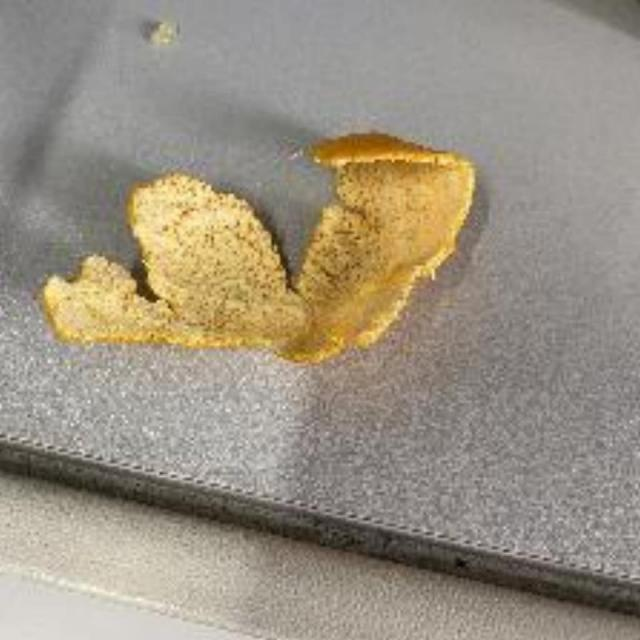orange peel: (31, 132, 478, 364)
